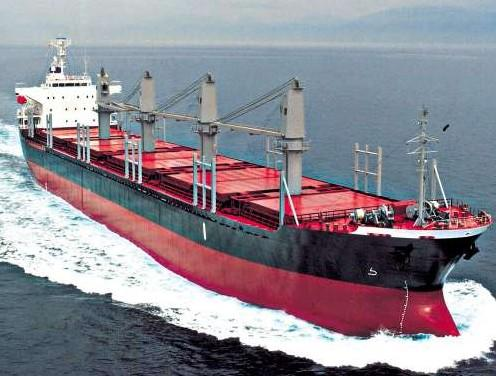Cargoship: (11, 33, 493, 343)
